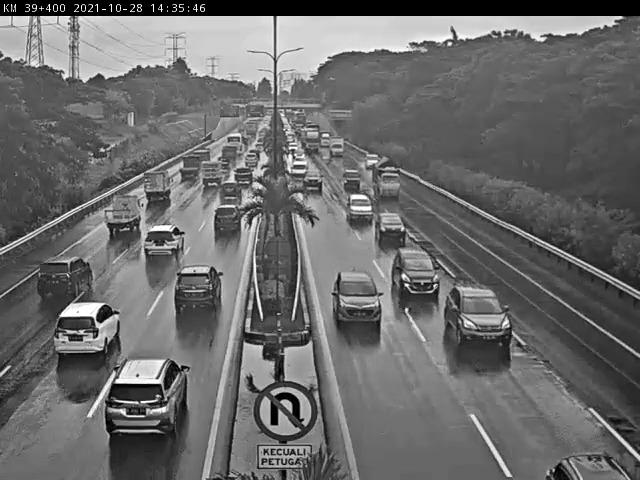car: (103, 355, 211, 444), (50, 297, 138, 369), (440, 277, 513, 358), (159, 272, 223, 336), (536, 441, 630, 480), (36, 257, 97, 316), (334, 269, 386, 329), (390, 245, 439, 304), (138, 221, 187, 268), (208, 199, 246, 239), (342, 187, 376, 229), (375, 210, 408, 249), (217, 180, 246, 207), (302, 173, 324, 199), (231, 164, 255, 186), (340, 170, 365, 188)
small bus: (196, 160, 224, 193)
small truck: (100, 193, 149, 237), (138, 166, 178, 214), (365, 155, 402, 198), (170, 148, 204, 184), (327, 135, 349, 159)
